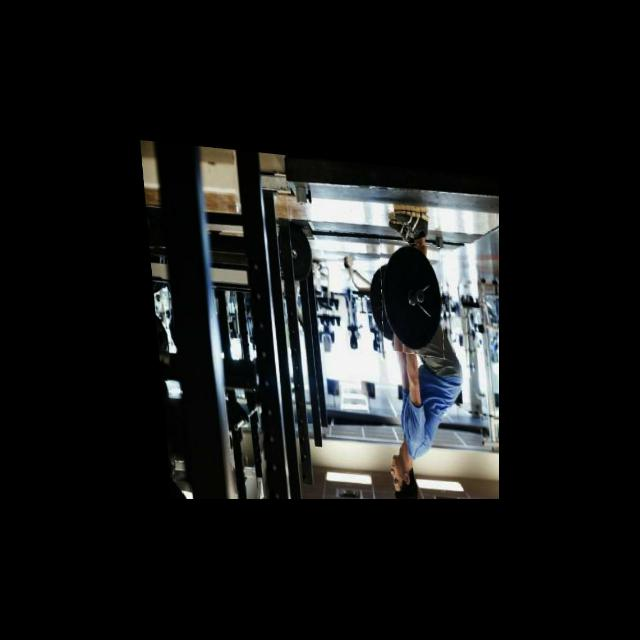barbell: (375, 234, 445, 352)
